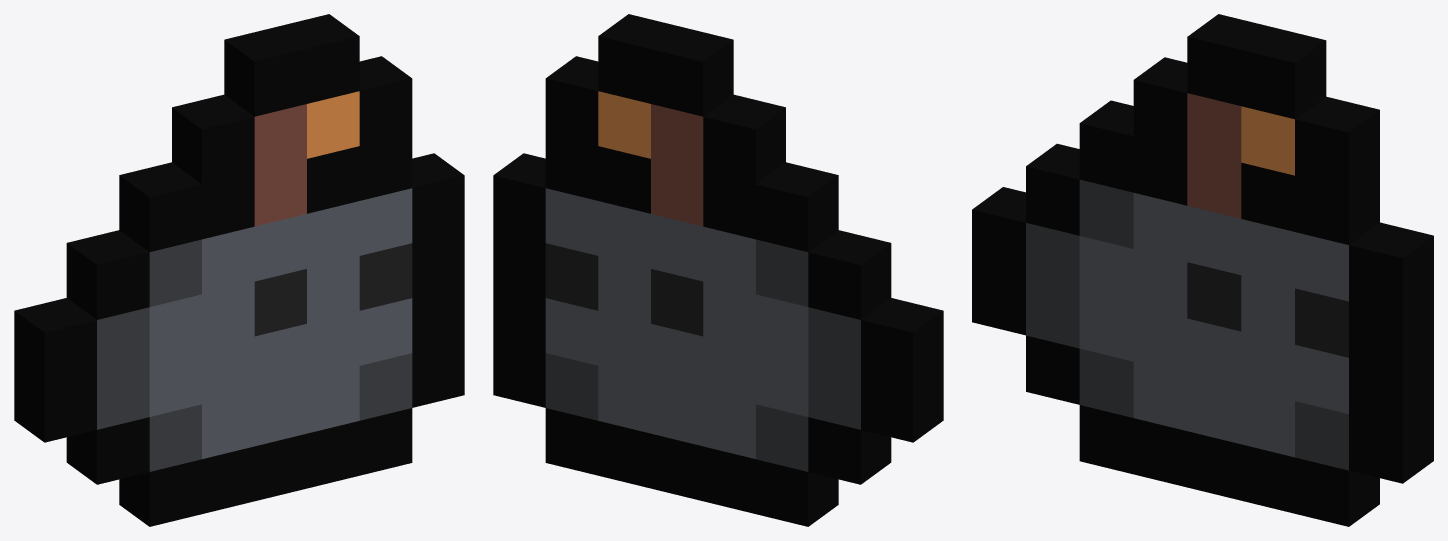
Rendered from Bombfish.glb.
3 views of the same model, side by side, from view 1: azimuth 30°, elevation 25°; view 2: azimuth 150°, elevation 25°; view 3: azimuth 330°, elevation 25° (orthographic). The views are drawn at different scales.
Parts seen in each view (by area): view 1: generated(Clone); view 2: generated(Clone); view 3: generated(Clone).
Part boxes in pixels (<box>): generated(Clone): <box>14,14,464,526</box>; generated(Clone): <box>493,14,943,526</box>; generated(Clone): <box>972,14,1433,526</box>.
Bounding box in the file's own units: 8 × 8 × 1.
1 material, 1 textured.
